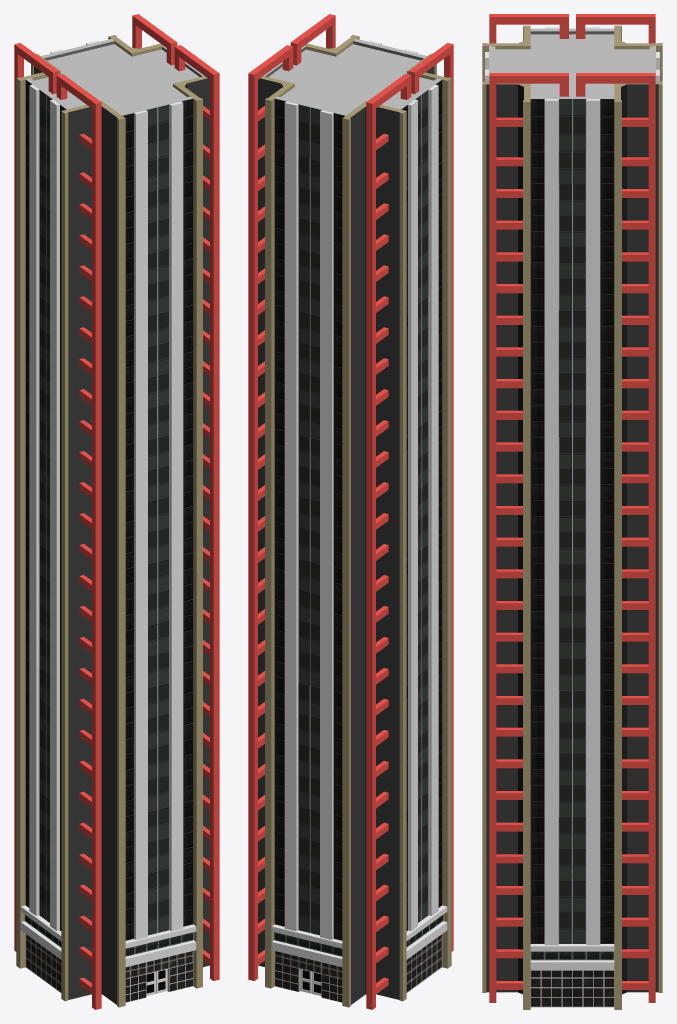
File: Tower-07.fbx
3 views of the same model, side by side, from view 1: azimuth 30°, elevation 25°; view 2: azimuth 150°, elevation 25°; view 3: azimuth 270°, elevation 25° (orthographic). The views are drawn at different scales.
Visible parts, largest first — view 1: Building; view 2: Building; view 3: Building.
Boxes of the visible parts, x1,y1,x2,y2 form: Building: (14, 14, 219, 1009); Building: (248, 14, 453, 1009); Building: (482, 14, 662, 1009).
Size of what is drawn, in the model's own units: 15.47 by 87.78 by 15.47.
